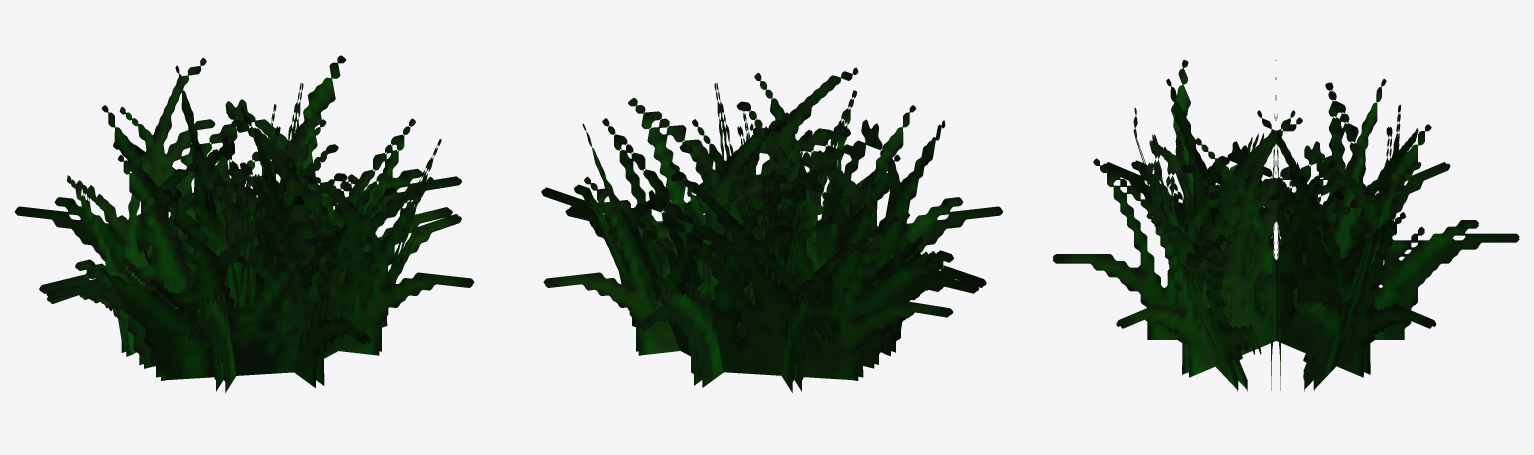
The model's file is dense_grass_shrub.glb.
3 views of the same model, side by side, from view 1: azimuth 30°, elevation 25°; view 2: azimuth 150°, elevation 25°; view 3: azimuth 270°, elevation 25° (orthographic).
Visible parts, largest first — view 1: grass_bush; view 2: grass_bush; view 3: grass_bush.
Part boxes in pixels (left/top/right/bottom): grass_bush: left=14, top=55, right=474, bottom=392; grass_bush: left=541, top=67, right=1003, bottom=392; grass_bush: left=1053, top=60, right=1519, bottom=391.
Bounding box in the file's own units: 1 × 0.5 × 1.
Materials: 1 (1 with a texture image).
